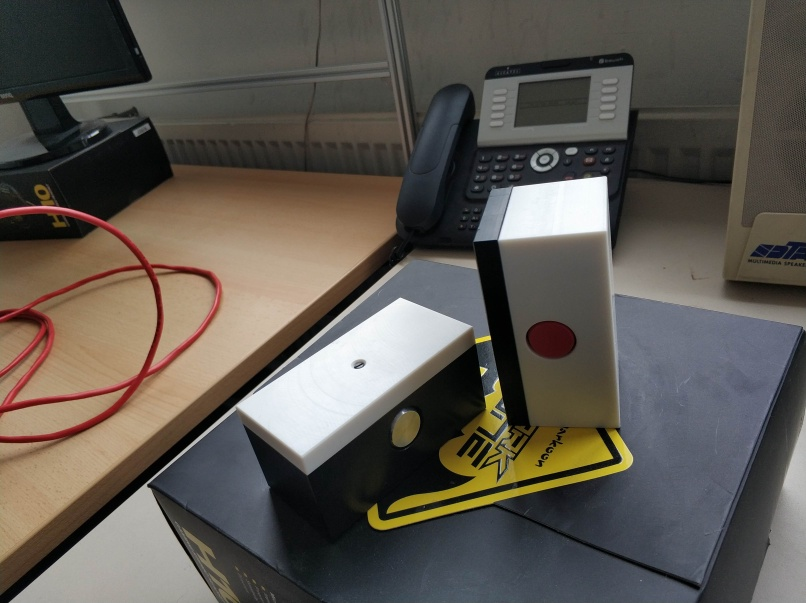black+white+red: (468, 171, 621, 433)
white+black+silver: (240, 297, 487, 540)
